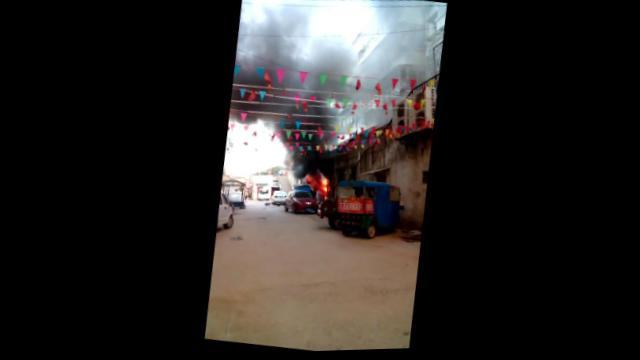fire: (317, 176, 330, 197), (305, 177, 321, 190)
